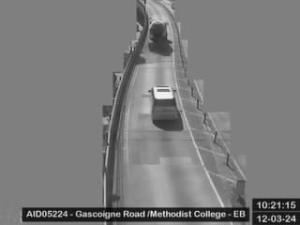vehicle: (149, 85, 179, 123), (148, 21, 167, 53)
